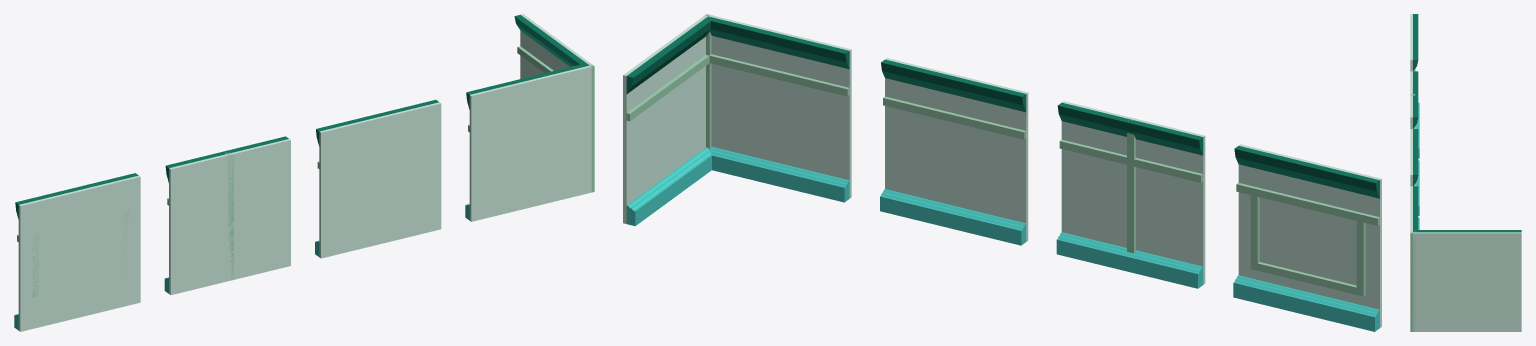
File: walls_lab_b.fbx
3 renders of one model, left to right at view 1: azimuth 30°, elevation 25°; view 2: azimuth 150°, elevation 25°; view 3: azimuth 270°, elevation 25°, orthographic. The views are drawn at different scales.
Parts seen in each view (by area): view 1: corner, wall_a, wall_c, wall_b; view 2: corner, wall_b, wall_a, wall_c; view 3: corner, wall_b, wall_c, wall_a.
Boxes of the visible parts, <box> form: corner: <box>465,14,594,221</box>; wall_a: <box>315,99,441,258</box>; wall_c: <box>14,173,140,331</box>; wall_b: <box>164,136,290,294</box>; corner: <box>623,14,851,226</box>; wall_b: <box>1056,101,1205,288</box>; wall_a: <box>880,58,1028,245</box>; wall_c: <box>1233,144,1381,331</box>; corner: <box>1410,186,1521,331</box>; wall_b: <box>1410,71,1419,215</box>; wall_c: <box>1410,14,1419,158</box>; wall_a: <box>1410,129,1419,229</box>.
Bounding box in the file's own units: 3820 × 800 × 820.
